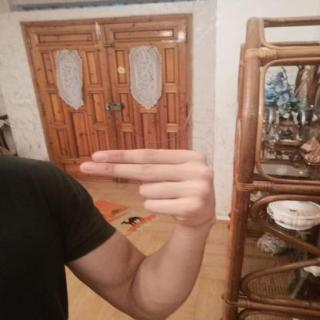AYN: (66, 138, 230, 236)
